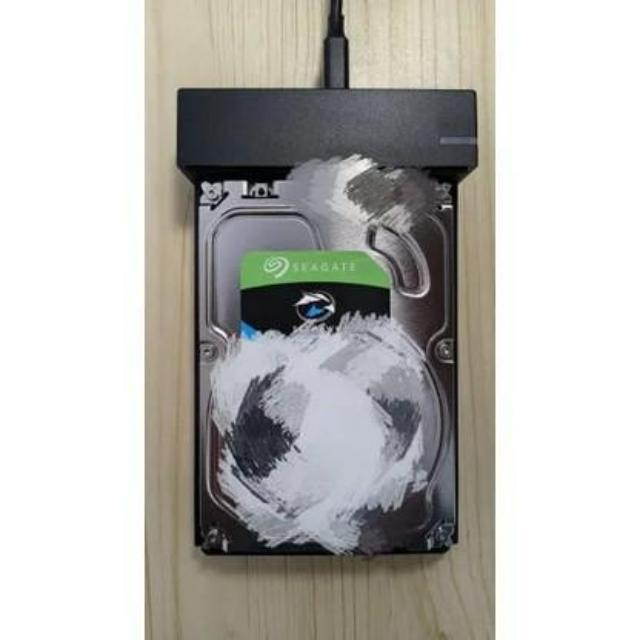DISK: (192, 173, 464, 559)
